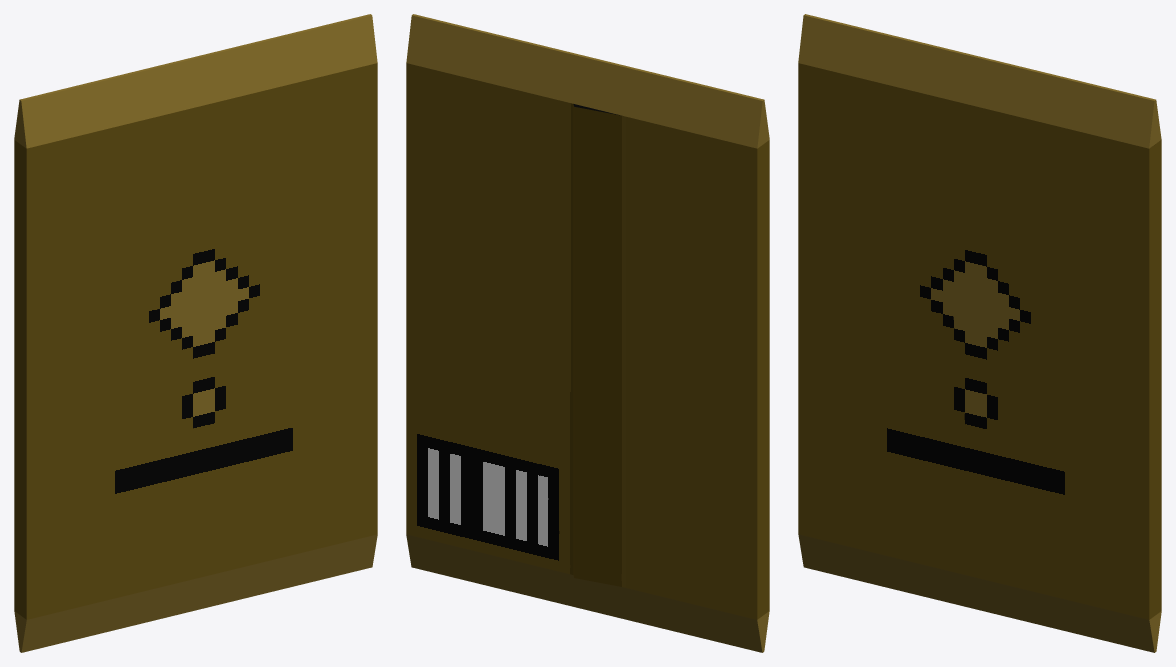
File: pack.glb
The picture shows the model from 3 angles, left to right: view 1: azimuth 30°, elevation 25°; view 2: azimuth 150°, elevation 25°; view 3: azimuth 330°, elevation 25°; orthographic projection.
Parts seen in each view (by area): view 1: base, top; view 2: base, top; view 3: base, top.
Boxes of the visible parts, left/top/right/bottom form: base: left=14, top=63, right=377, bottom=652; top: left=14, top=14, right=377, bottom=148; base: left=406, top=63, right=769, bottom=652; top: left=406, top=14, right=769, bottom=148; base: left=798, top=63, right=1161, bottom=652; top: left=798, top=14, right=1161, bottom=148.
Size of the model in its own units: 3.33 by 5 by 0.2502.
Materials: 2 (2 with a texture image).
